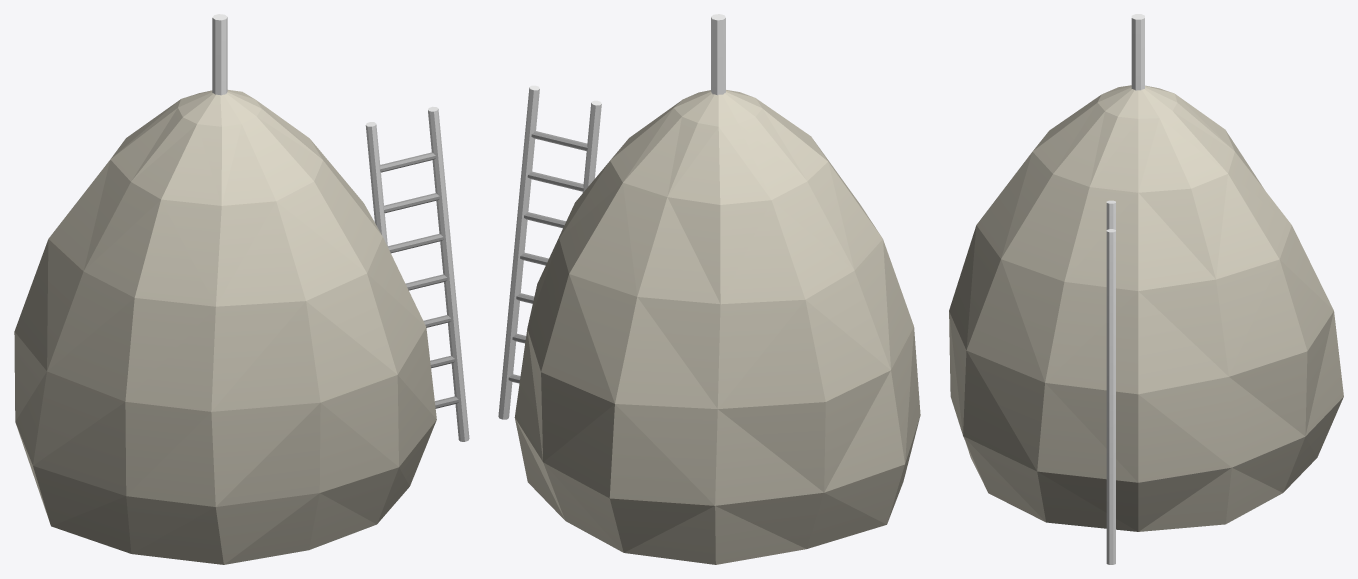
Rendered from haystack.glb.
3 renders of one model, left to right at view 1: azimuth 30°, elevation 25°; view 2: azimuth 150°, elevation 25°; view 3: azimuth 270°, elevation 25°, orthographic. The views are drawn at different scales.
Parts seen in each view (by area): view 1: haystack; view 2: haystack; view 3: haystack.
Part boxes in pixels (x1,y1,x2,y2): haystack: (14,14,469,564); haystack: (498,14,920,564); haystack: (949,14,1343,564).
Bounding box in the file's own units: 3.39 × 3.6 × 2.92.
